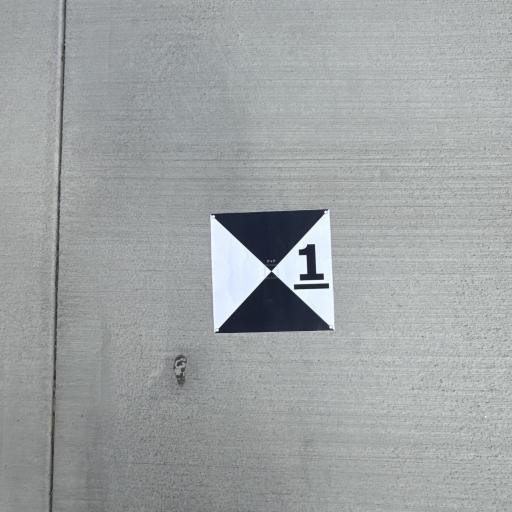target1: (208, 208, 338, 340)
